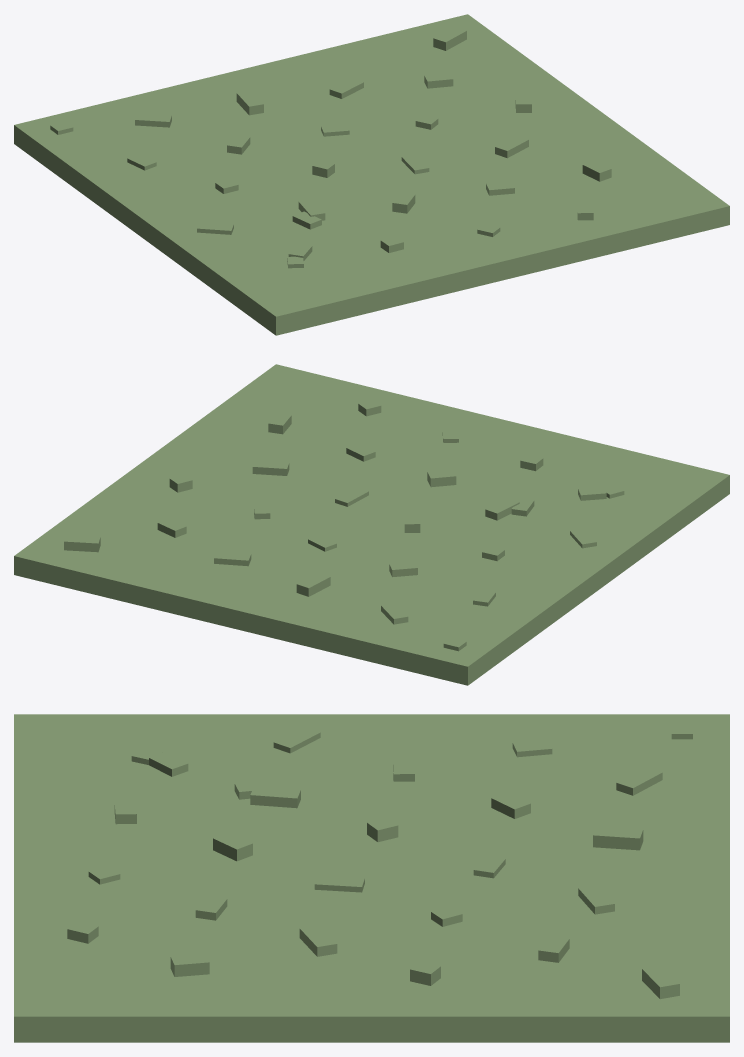
Rendered from monastery_cloister_garth_lawn.glb.
3 renders of one model, top to bottom at view 1: azimuth 30°, elevation 25°; view 2: azimuth 150°, elevation 25°; view 3: azimuth 270°, elevation 25°, orthographic. The views are drawn at different scales.
Visible parts, largest first — view 1: world; view 2: world; view 3: world.
Part boxes in pixels (<box>): world: <box>14,14,729,335</box>; world: <box>14,364,729,685</box>; world: <box>14,714,729,1042</box>.
Size of the model in its own units: 2 by 0.1167 by 2.
